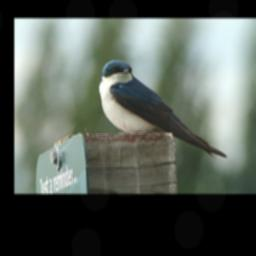Swallow: (99, 60, 229, 159)
